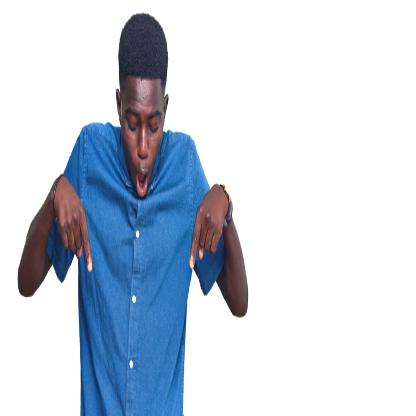Down: (181, 162, 235, 286), (45, 167, 95, 294)
